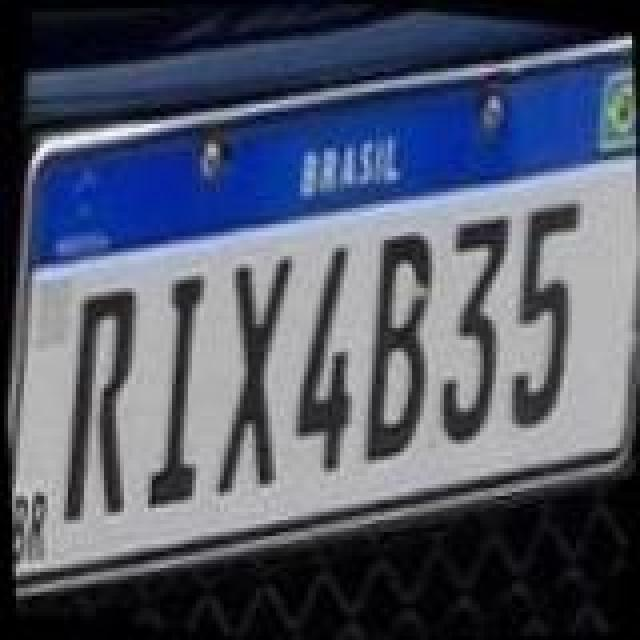3: (424, 200, 516, 444)
4: (276, 238, 372, 474)
5: (494, 184, 590, 432)
B: (346, 226, 446, 474)
I: (134, 260, 226, 516)
R: (48, 276, 152, 532)
X: (200, 242, 304, 498)
